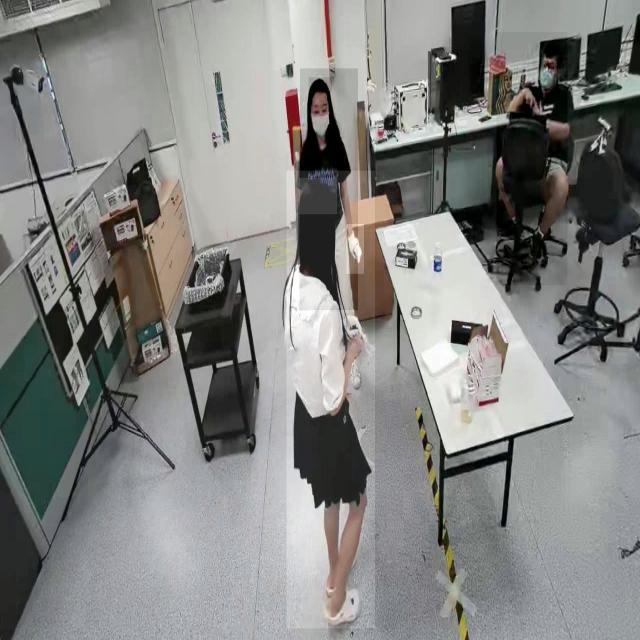face_mask: (309, 104, 331, 147), (538, 62, 558, 91)
hand_glove: (346, 224, 364, 274)
hand_noglove: (524, 86, 540, 116)
head_nohelmet: (299, 178, 337, 215), (308, 78, 332, 94), (541, 40, 562, 56)
person: (286, 171, 375, 629), (496, 32, 568, 286), (300, 68, 358, 310)
